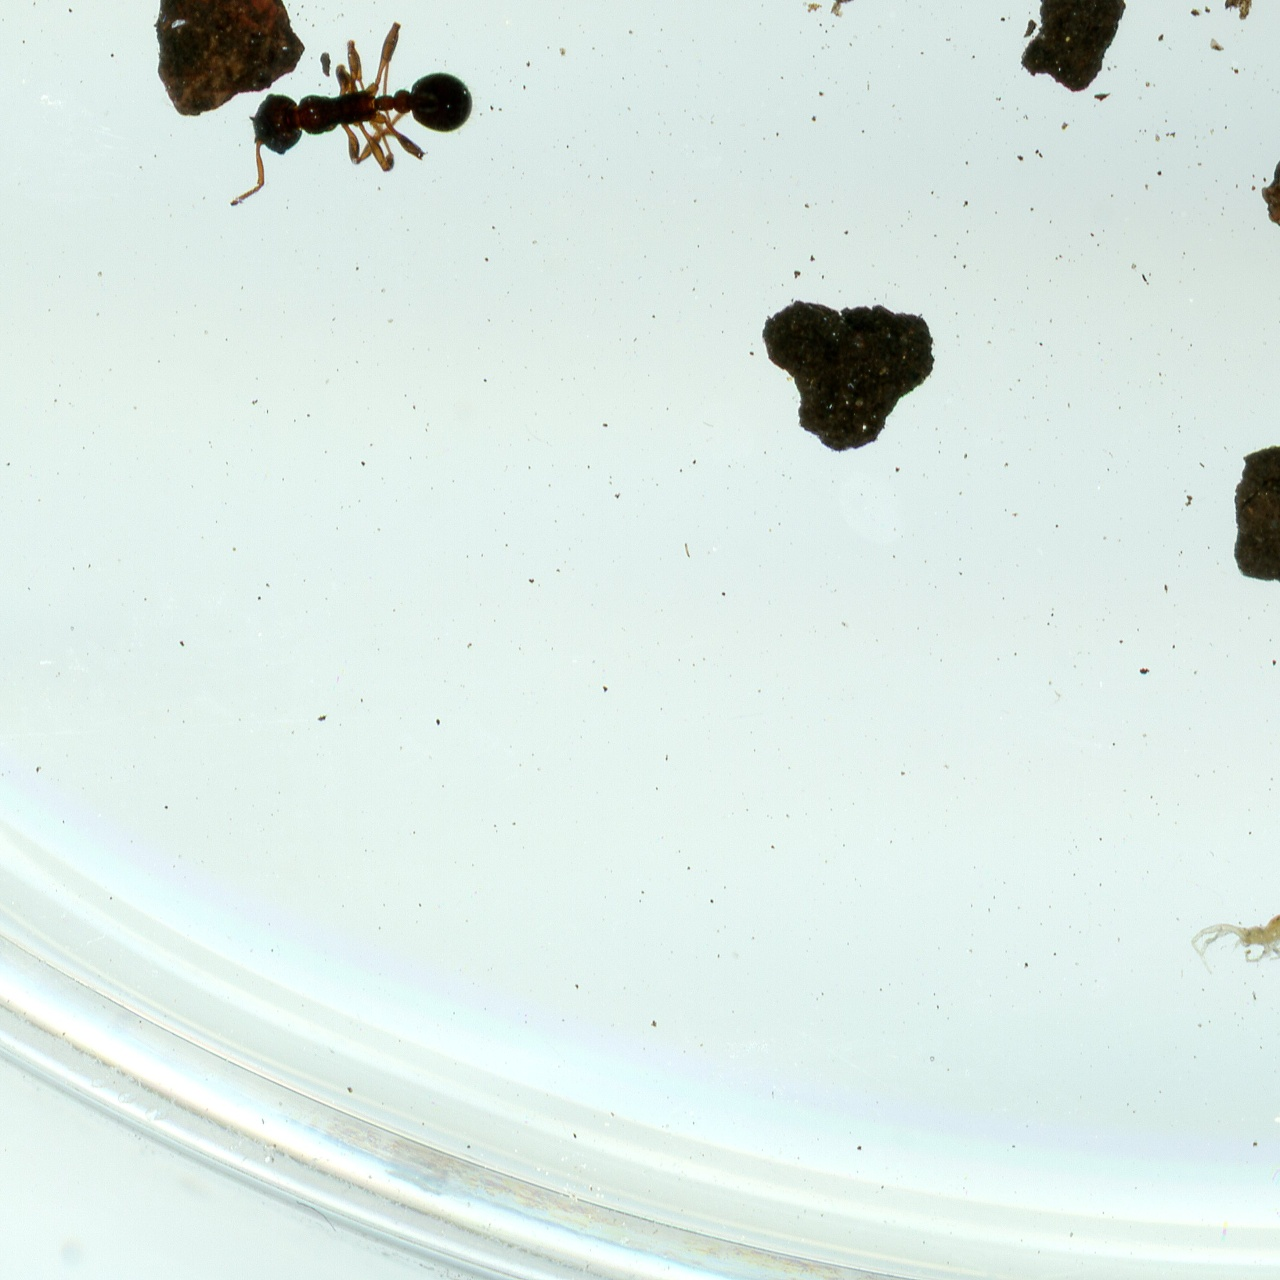arthropod: (194, 6, 490, 218), (1188, 906, 1280, 977)
